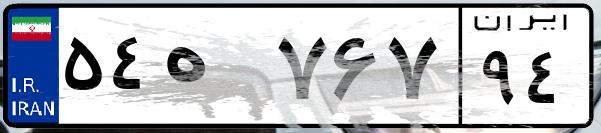4: (525, 38, 570, 115), (110, 28, 158, 98)
5: (57, 26, 110, 100)
6: (330, 28, 385, 110)
7: (270, 28, 330, 110), (385, 28, 445, 110)
9: (475, 38, 525, 113)
ه: (158, 20, 270, 120)
